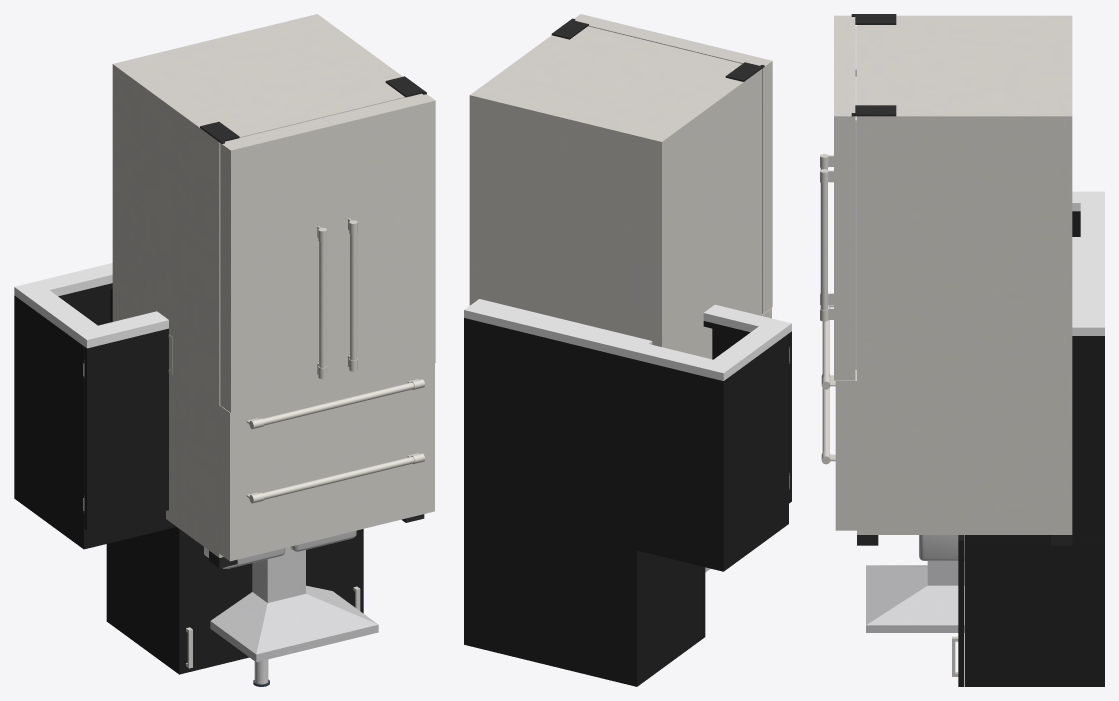
Rendered from kitchen-set.glb.
3 views of the same model, side by side, from view 1: azimuth 30°, elevation 25°; view 2: azimuth 150°, elevation 25°; view 3: azimuth 270°, elevation 25° (orthographic). The views are drawn at different scales.
Visible parts, largest first — view 1: Refrigerator06, Refrigerator06_Door02, Refrigerator06_Door02001, CabinetD_Sink, Refrigerator04_Door03002, Refrigerator04_Door03001, CabinetD_SinkDoor02, KitchenExhaust01, CabinetD05, CabinetD05Door, CabinetD06Door, Sink06; view 2: Refrigerator06, CabinetD_Sink, CabinetD05, CabinetD02, CabinetD06, CabinetD03, CabinetD04, Refrigerator06_Door02, CabinetD_SinkDoor02, Refrigerator06_Door02001, CabinetD01; view 3: Refrigerator06, CabinetD06, CabinetD02, Refrigerator06_Door02001, KitchenExhaust01, Refrigerator04_Door03002, Refrigerator04_Door03001, CabinetD_Sink, CabinetD03, Refrigerator06_Door02, CabinetD06Door, Sink06 (+1 smaller).
Boxes of the visible parts, left/top/right/bottom form: Refrigerator06: left=112, top=14, right=426, bottom=568; Refrigerator06_Door02: left=220, top=118, right=333, bottom=412; Refrigerator06_Door02001: left=323, top=93, right=435, bottom=387; CabinetD_Sink: left=14, top=263, right=176, bottom=549; Refrigerator04_Door03002: left=219, top=437, right=434, bottom=561; Refrigerator04_Door03001: left=219, top=363, right=434, bottom=486; CabinetD_SinkDoor02: left=83, top=328, right=172, bottom=529; KitchenExhaust01: left=210, top=546, right=378, bottom=662; CabinetD05: left=106, top=527, right=176, bottom=671; CabinetD05Door: left=176, top=527, right=252, bottom=674; CabinetD06Door: left=306, top=529, right=363, bottom=613; Sink06: left=204, top=530, right=356, bottom=686; Refrigerator06: left=469, top=18, right=764, bottom=359; CabinetD_Sink: left=550, top=304, right=791, bottom=571; CabinetD05: left=550, top=529, right=702, bottom=686; CabinetD02: left=464, top=299, right=565, bottom=529; CabinetD06: left=464, top=508, right=550, bottom=665; CabinetD03: left=550, top=320, right=652, bottom=550; CabinetD04: left=550, top=339, right=636, bottom=509; Refrigerator06_Door02: left=667, top=37, right=772, bottom=313; CabinetD_SinkDoor02: left=712, top=328, right=791, bottom=503; Refrigerator06_Door02001: left=574, top=14, right=676, bottom=45; CabinetD01: left=551, top=332, right=651, bottom=549; Refrigerator06: left=851, top=14, right=1072, bottom=545; CabinetD06: left=964, top=540, right=1104, bottom=686; CabinetD02: left=964, top=282, right=1104, bottom=540; Refrigerator06_Door02001: left=820, top=66, right=856, bottom=380; KitchenExhaust01: left=866, top=561, right=964, bottom=632; Refrigerator04_Door03002: left=821, top=374, right=856, bottom=530; Refrigerator04_Door03001: left=821, top=305, right=856, bottom=455; CabinetD_Sink: left=1072, top=191, right=1104, bottom=282; CabinetD03: left=1072, top=237, right=1104, bottom=282; Refrigerator06_Door02: left=820, top=15, right=856, bottom=305; CabinetD06Door: left=952, top=535, right=963, bottom=686; Sink06: left=919, top=535, right=964, bottom=560.
Bounding box in the file's own units: 1.3 × 2.65 × 1.11.
1 material, 1 textured.
